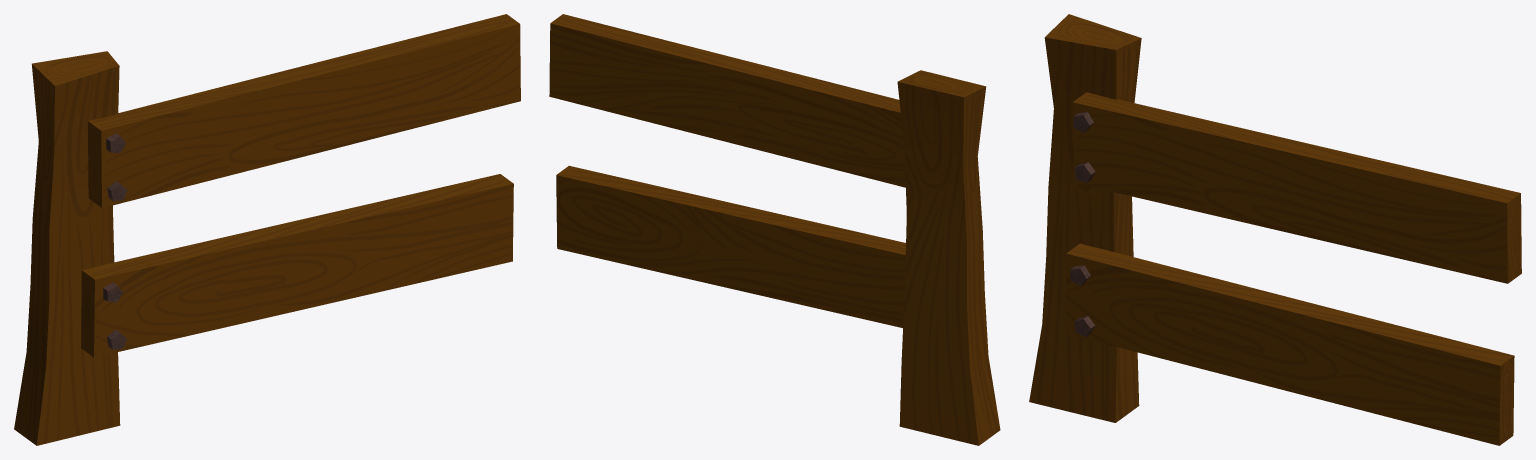
File: Fence_Left.fbx
The picture shows the model from 3 angles, left to right: view 1: azimuth 30°, elevation 25°; view 2: azimuth 150°, elevation 25°; view 3: azimuth 330°, elevation 25°; orthographic projection. The views are drawn at different scales.
Parts seen in each view (by area): view 1: pCylinder34; view 2: pCylinder34; view 3: pCylinder34.
Boxes of the visible parts, x1,y1,x2,y2 form: pCylinder34: (14,14,520,445); pCylinder34: (549,14,1000,445); pCylinder34: (1029,14,1521,445).
Size of the model in its own units: 5.52 by 4.04 by 0.7725.
2 materials, 2 textured.
